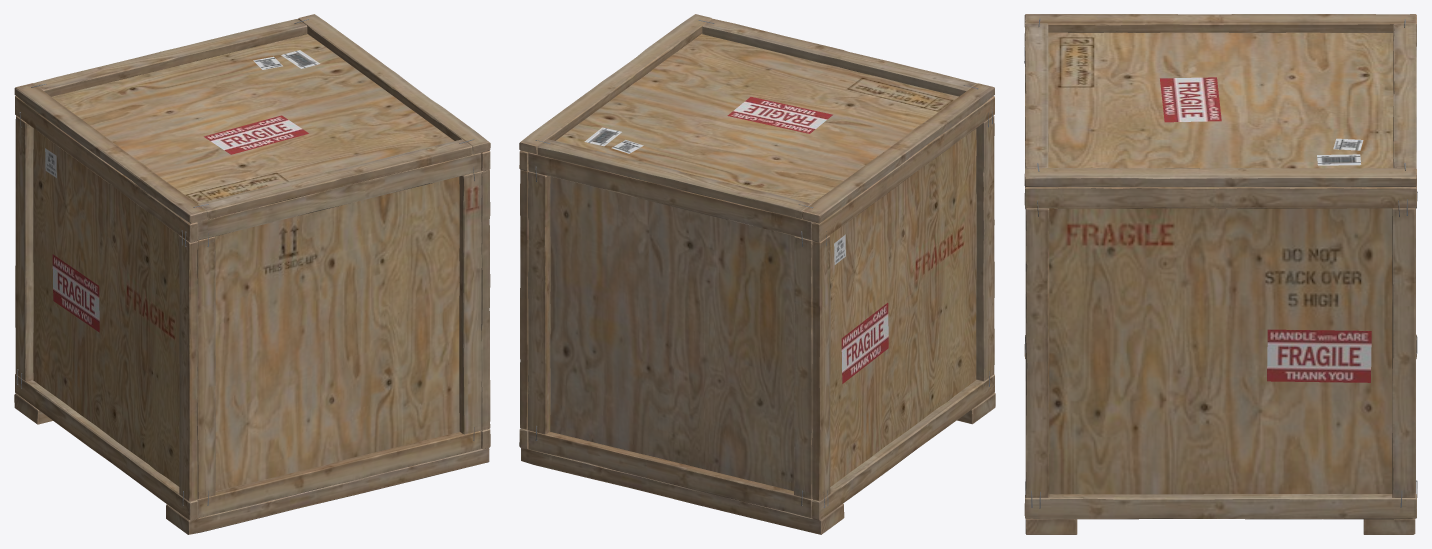
Rendered from dock_crate.glb.
The picture shows the model from 3 angles, left to right: view 1: azimuth 30°, elevation 25°; view 2: azimuth 150°, elevation 25°; view 3: azimuth 270°, elevation 25°; orthographic projection. The views are drawn at different scales.
Visible parts, largest first — view 1: dock_crate; view 2: dock_crate; view 3: dock_crate.
Boxes of the visible parts, <box> form: dock_crate: <box>14,14,490,534</box>; dock_crate: <box>519,14,995,534</box>; dock_crate: <box>1024,14,1417,534</box>.
Size of the model in its own units: 1 by 1.02 by 1.01.
Materials: 3 (3 with a texture image).
